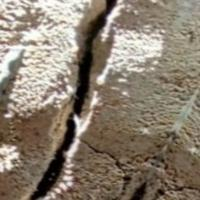crack: (30, 0, 125, 199)
